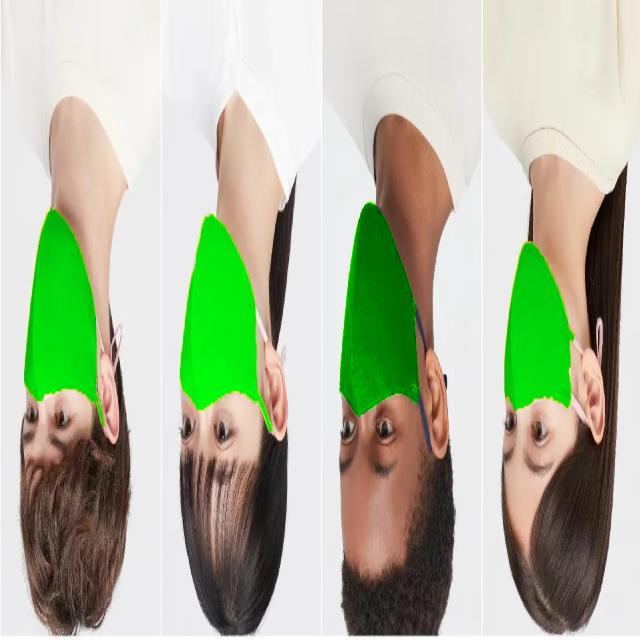mask: (14, 181, 117, 434), (335, 192, 443, 429), (173, 202, 278, 430), (495, 220, 582, 428)
